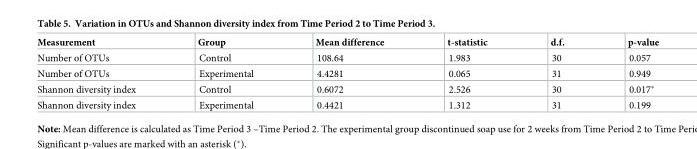table: (36, 36, 658, 110)
table column: (283, 36, 414, 110), (36, 36, 165, 110), (165, 36, 283, 110), (414, 36, 518, 110), (518, 36, 595, 110), (595, 36, 658, 110)
table column header: (36, 36, 658, 49)
table row: (36, 80, 658, 97), (36, 49, 658, 65), (36, 65, 658, 80), (36, 36, 658, 49), (36, 97, 658, 110)
